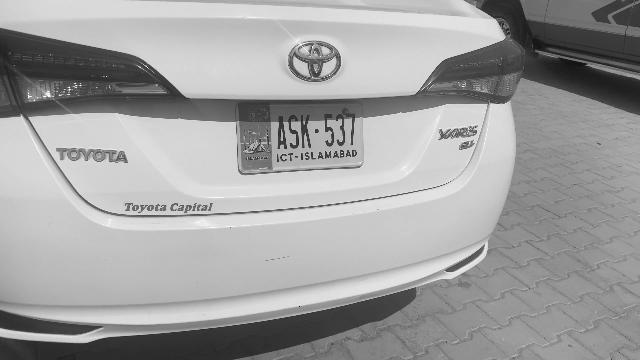Number: (274, 111, 356, 152)
